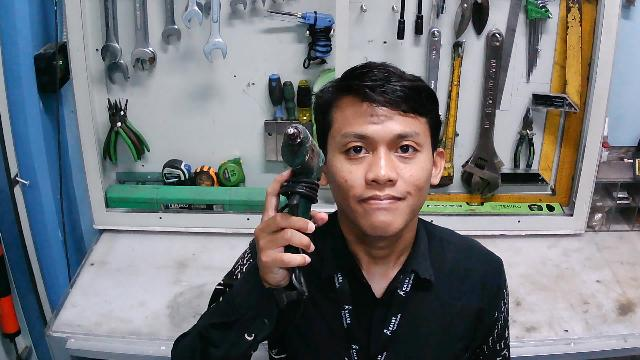gun_lem: (270, 117, 327, 311)
